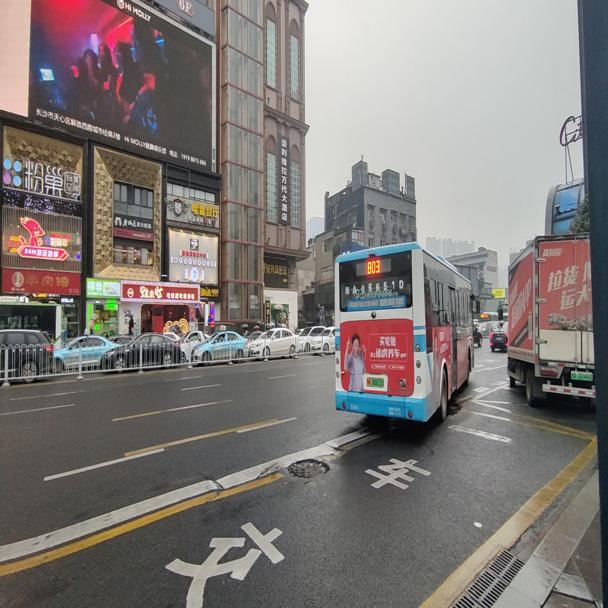bus: (332, 239, 480, 425)
screen: (367, 258, 380, 274)
